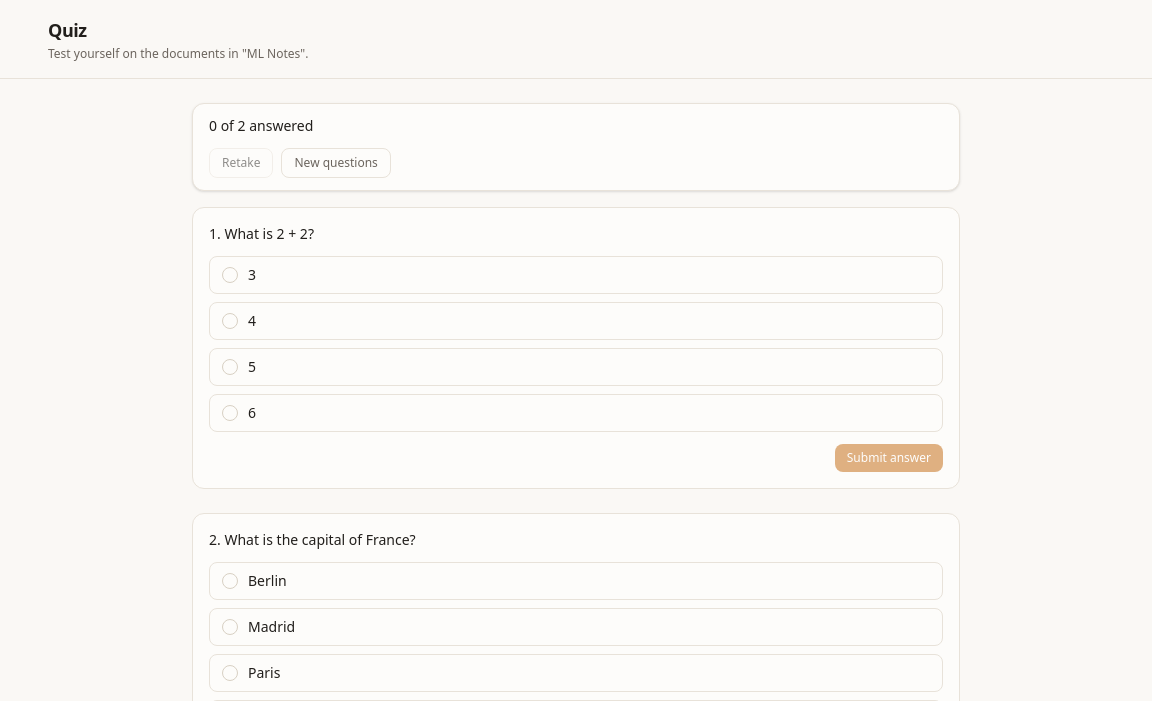
Scenario: QuizView › lets you change your mind before submitting, then locks the answer in on submit
The image size is (1152, 701).
Expected: the text "1. What is 2 + 2?" is shown, [209,224,314,243]
Click the radio button labelled "3" at (230, 275), box [209,256,943,294]
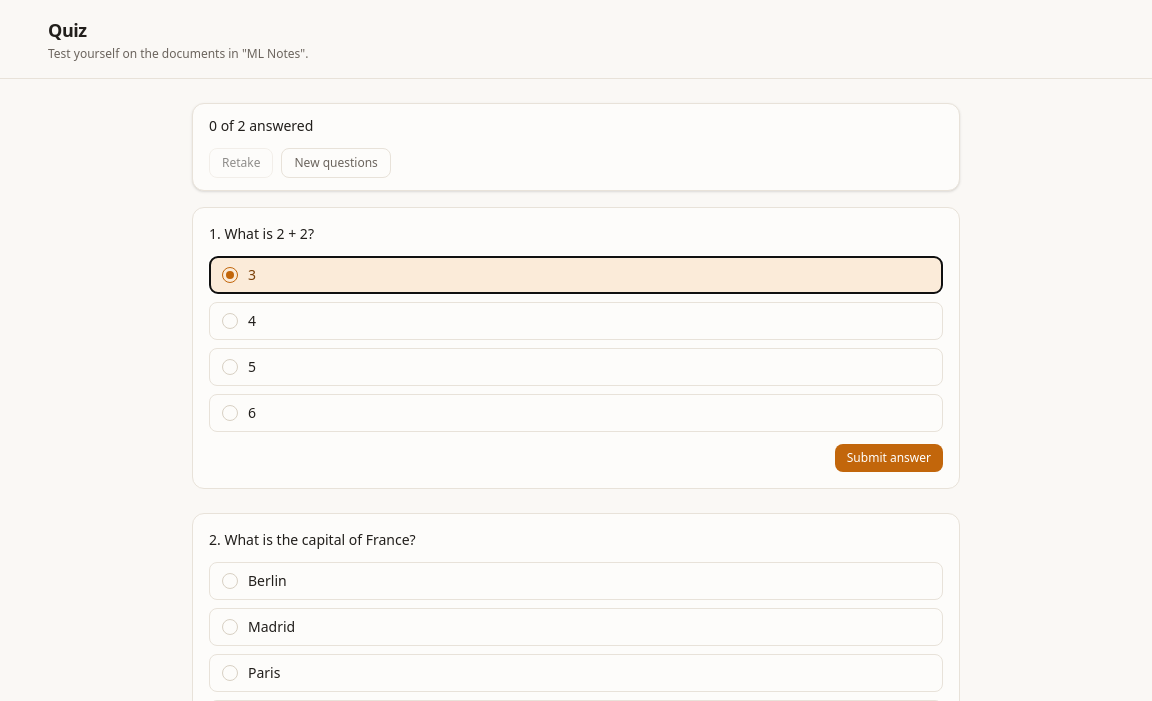
Click the radio button labelled "4" at (230, 321), box [209,302,943,340]
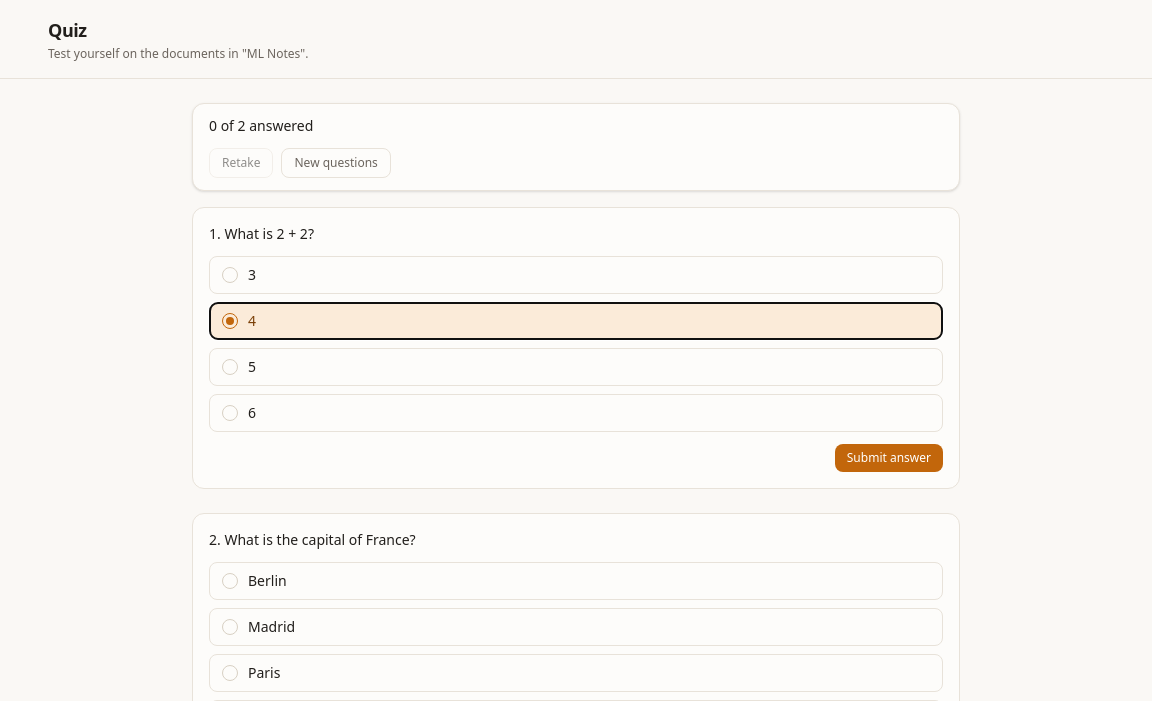
Now the radio button labelled "4" is checked, box [209,302,943,340]
Now the radio button labelled "3" is not checked, box [209,256,943,294]
Click the button "Submit answer" at (889, 458), box [835,444,943,472]
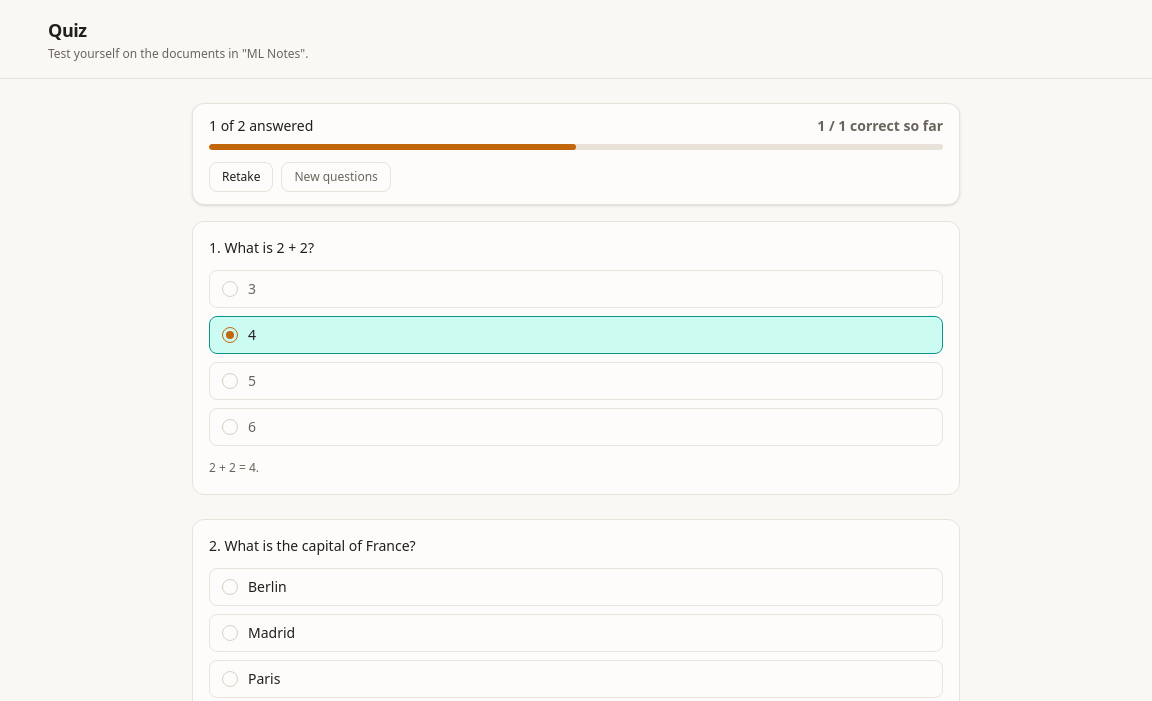
Now the text "2 + 2 = 4." is shown, box [209,459,259,476]
Now the radio button labelled "3" is disabled, box [209,270,943,308]
Now the text "1 of 2 answered" is shown, box [209,116,313,136]
